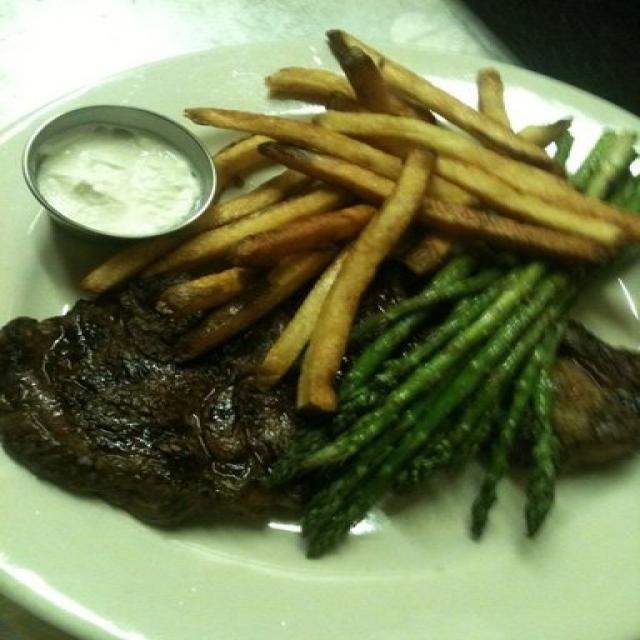French fries: (253, 43, 639, 269)
Steak: (2, 275, 606, 536)
